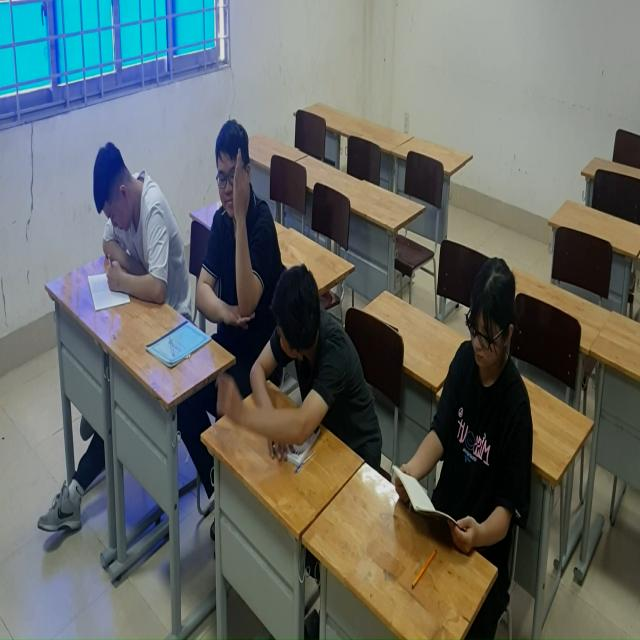raise_hand: (196, 113, 279, 356)
read: (388, 241, 557, 581), (79, 120, 189, 328)
sleep: (217, 255, 383, 479)
